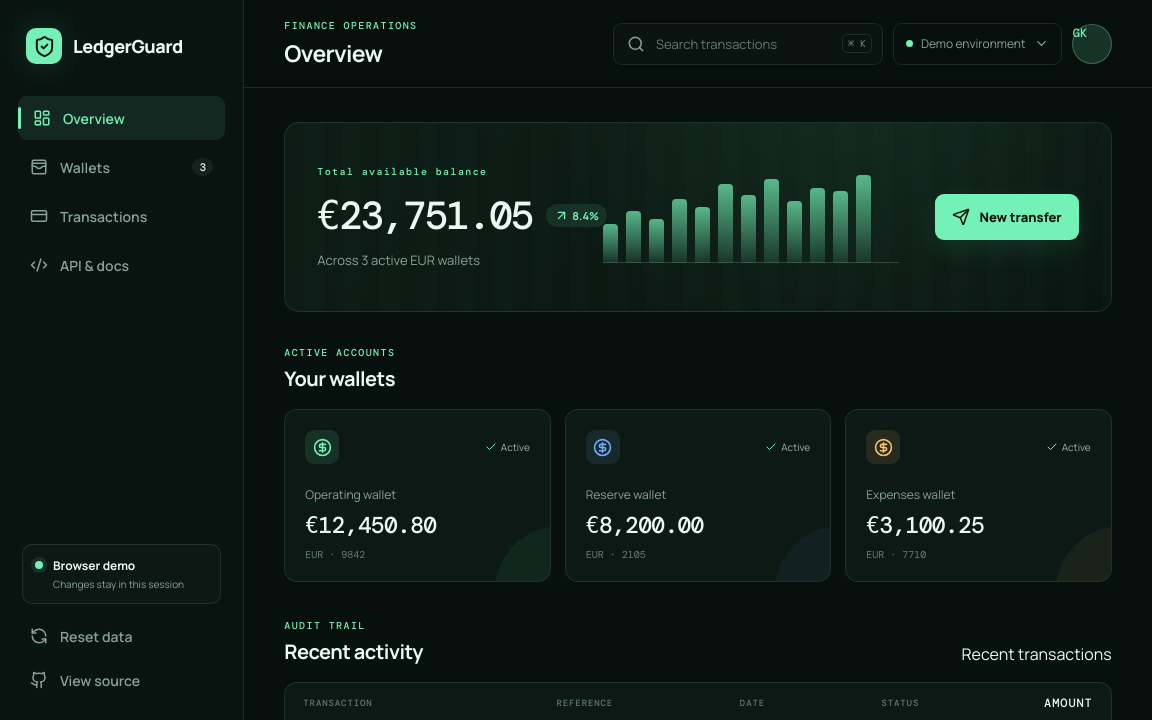
Scenario: LedgerGuard dashboard › blocks transfers that exceed the available balance
Step 1. Click the button "New transfer" → {"x": 1007, "y": 217}, box x1=935 y1=194 x2=1079 y2=240
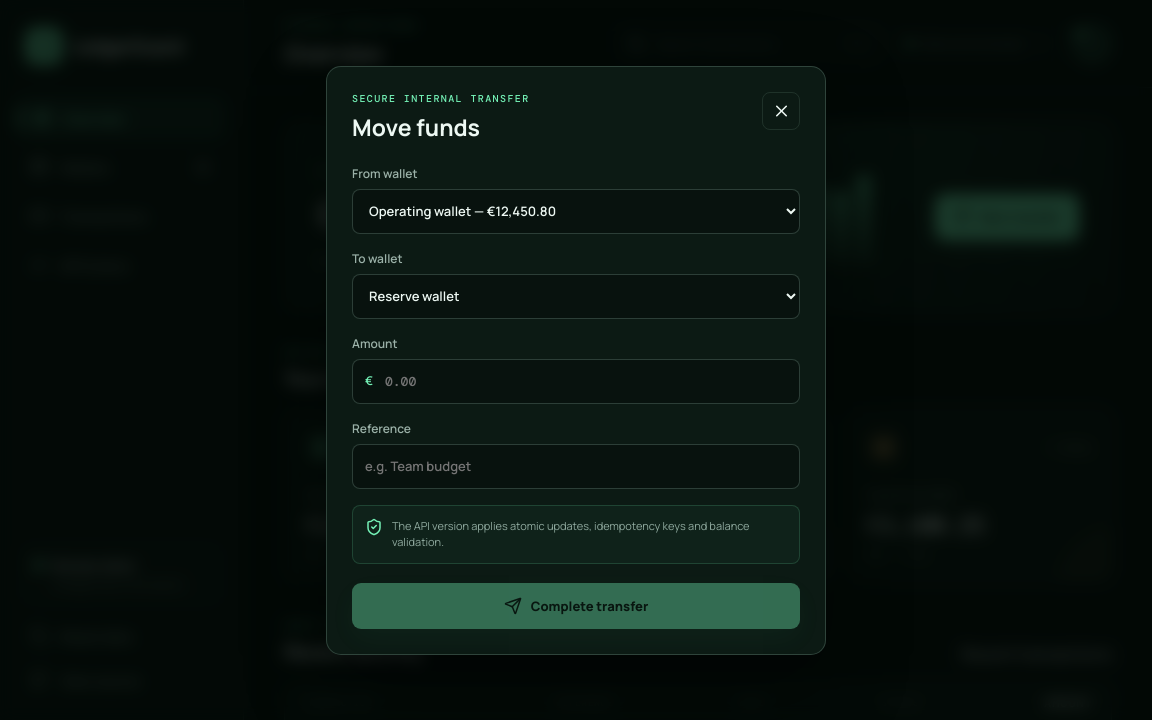
Step 2. Type "999999" into the number field labelled "Amount €" → {"x": 576, "y": 381}, box x1=352 y1=358 x2=800 y2=404
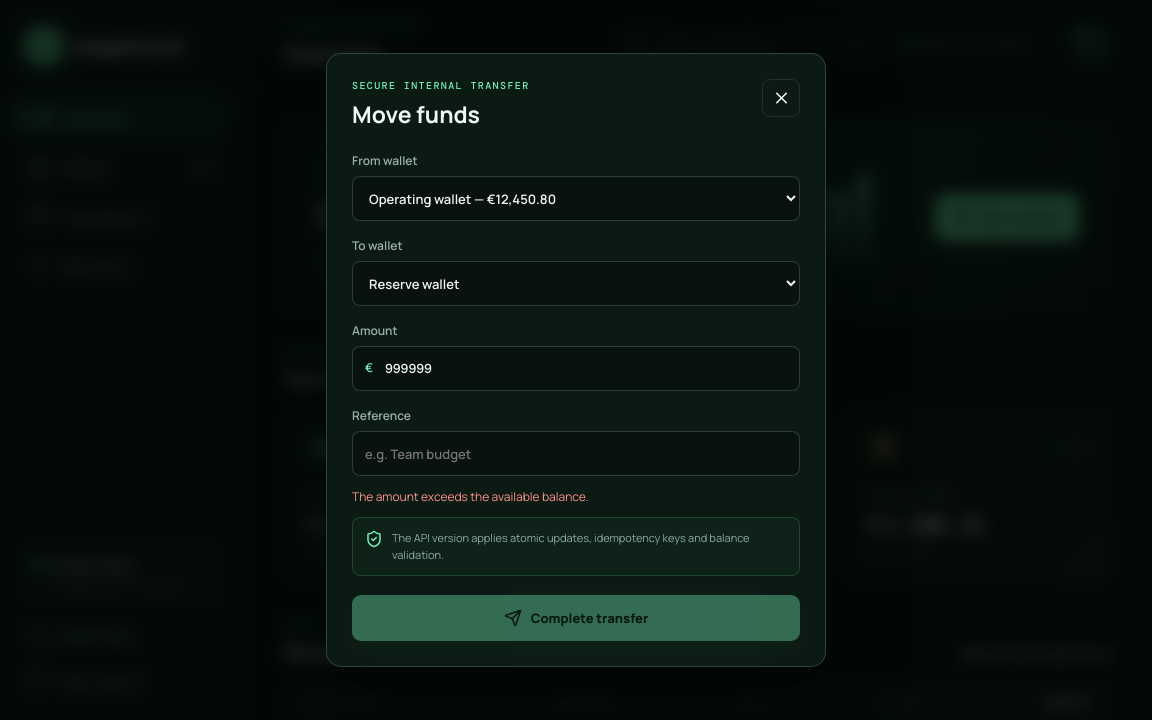
Expected: the button "Complete transfer" is disabled, x1=352 y1=595 x2=800 y2=641
Expected: the text "The amount exceeds the available balance." is shown, x1=352 y1=488 x2=589 y2=505
